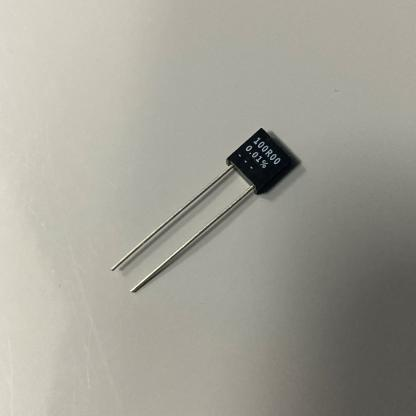SP0000007: (49, 83, 332, 312)
